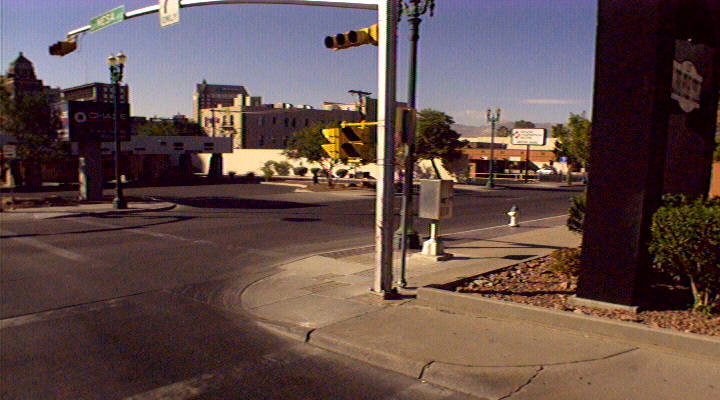Ramp: (218, 255, 376, 346), (3, 208, 78, 222)
